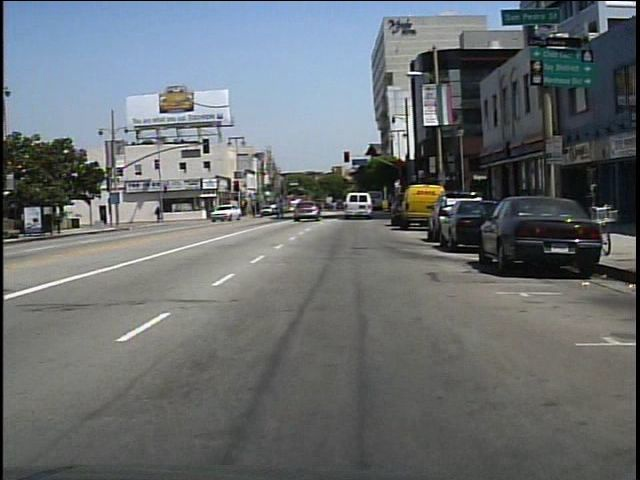person: (277, 194, 293, 223), (156, 204, 165, 223)
